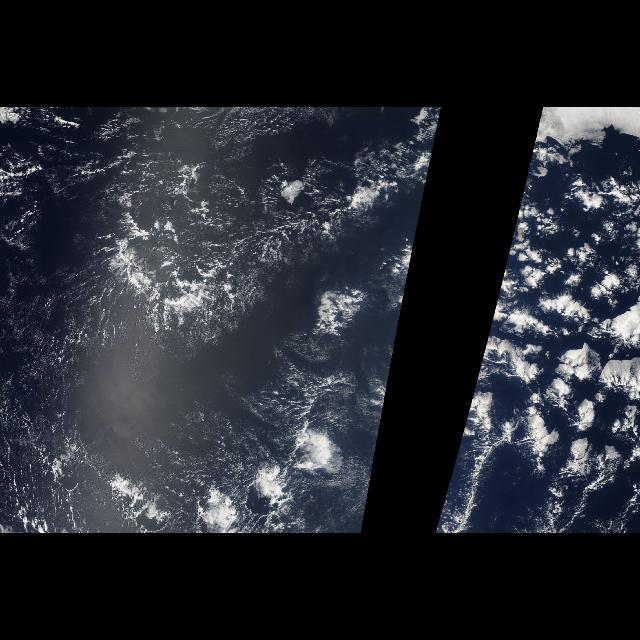Flower: (459, 157, 639, 499)
